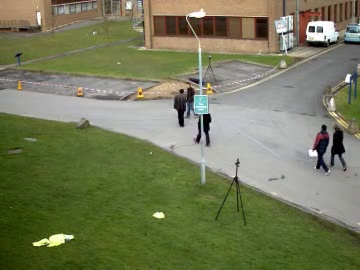person: (194, 106, 211, 147), (172, 89, 188, 127), (196, 108, 211, 147)
